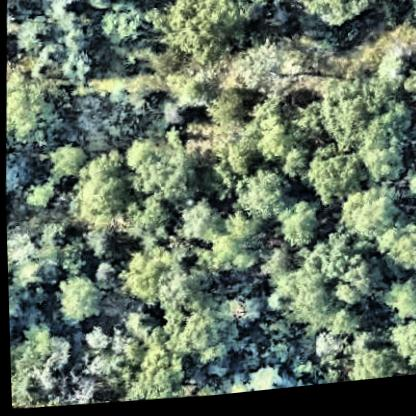tree-top: (164, 0, 257, 80), (314, 231, 387, 321), (158, 293, 236, 372), (8, 323, 71, 411), (358, 108, 416, 201), (69, 156, 137, 232), (279, 0, 391, 46), (311, 83, 376, 159), (226, 41, 299, 106), (332, 181, 403, 242), (307, 145, 368, 214), (133, 142, 196, 207), (117, 241, 179, 306), (127, 346, 183, 405), (127, 188, 177, 252), (340, 335, 399, 389), (53, 271, 105, 331), (273, 204, 326, 258), (236, 169, 287, 225), (253, 123, 303, 177), (380, 217, 416, 282), (176, 198, 221, 247), (99, 1, 146, 45), (311, 330, 347, 374), (382, 280, 416, 326), (385, 323, 416, 373), (375, 55, 411, 93), (207, 233, 241, 273), (124, 310, 158, 344), (244, 369, 284, 397), (17, 20, 49, 53), (34, 222, 68, 252), (14, 259, 44, 293), (52, 145, 82, 178), (386, 0, 416, 33), (23, 182, 56, 212), (82, 324, 109, 352), (42, 41, 67, 66), (401, 74, 416, 110)
